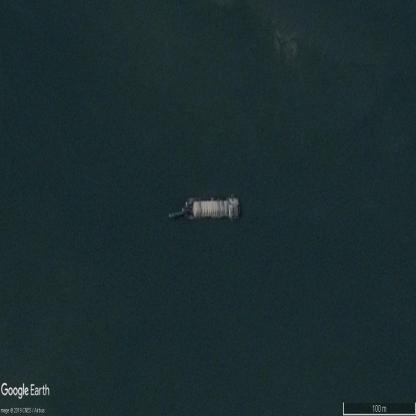ship: (168, 199, 246, 221)
